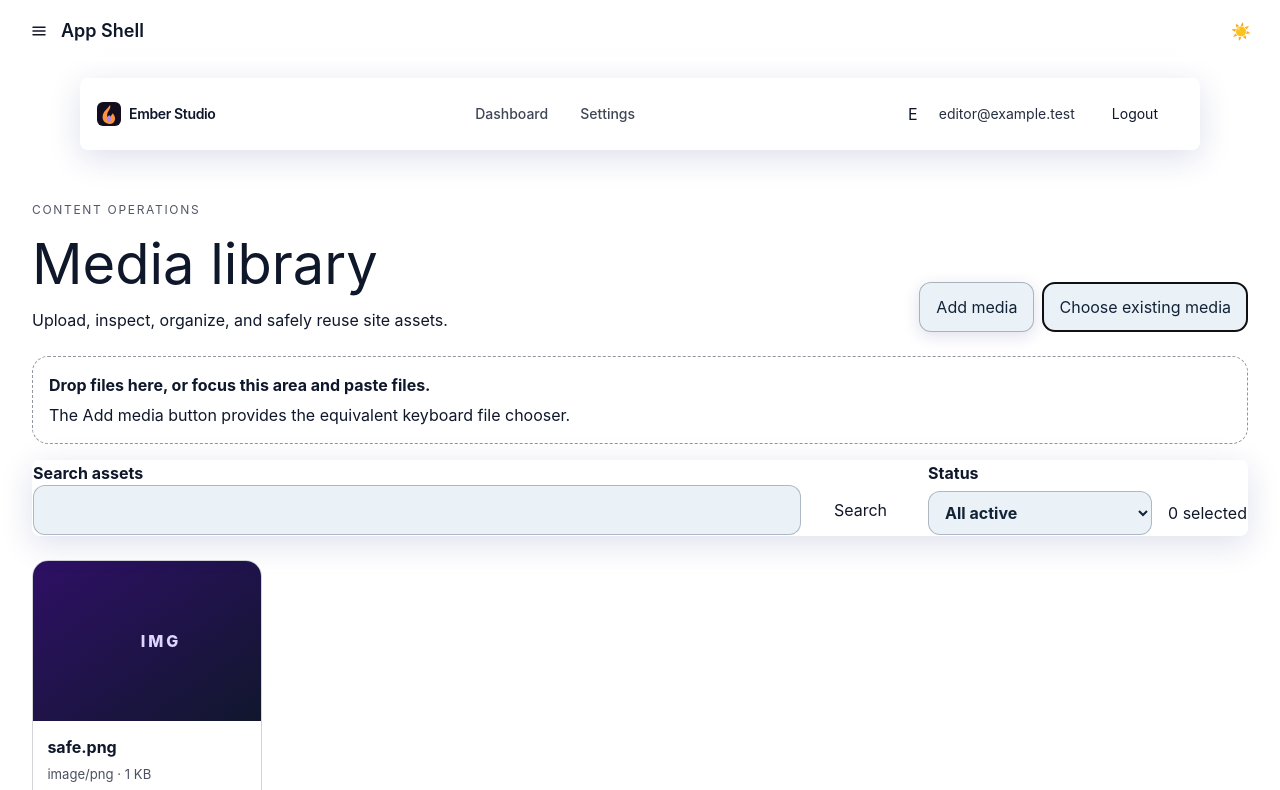
Test: integrates the reusable picker and returns focus after exact selection
Click the button "Choose existing media". click: (1145, 307)
box: [1042, 282, 1248, 332]
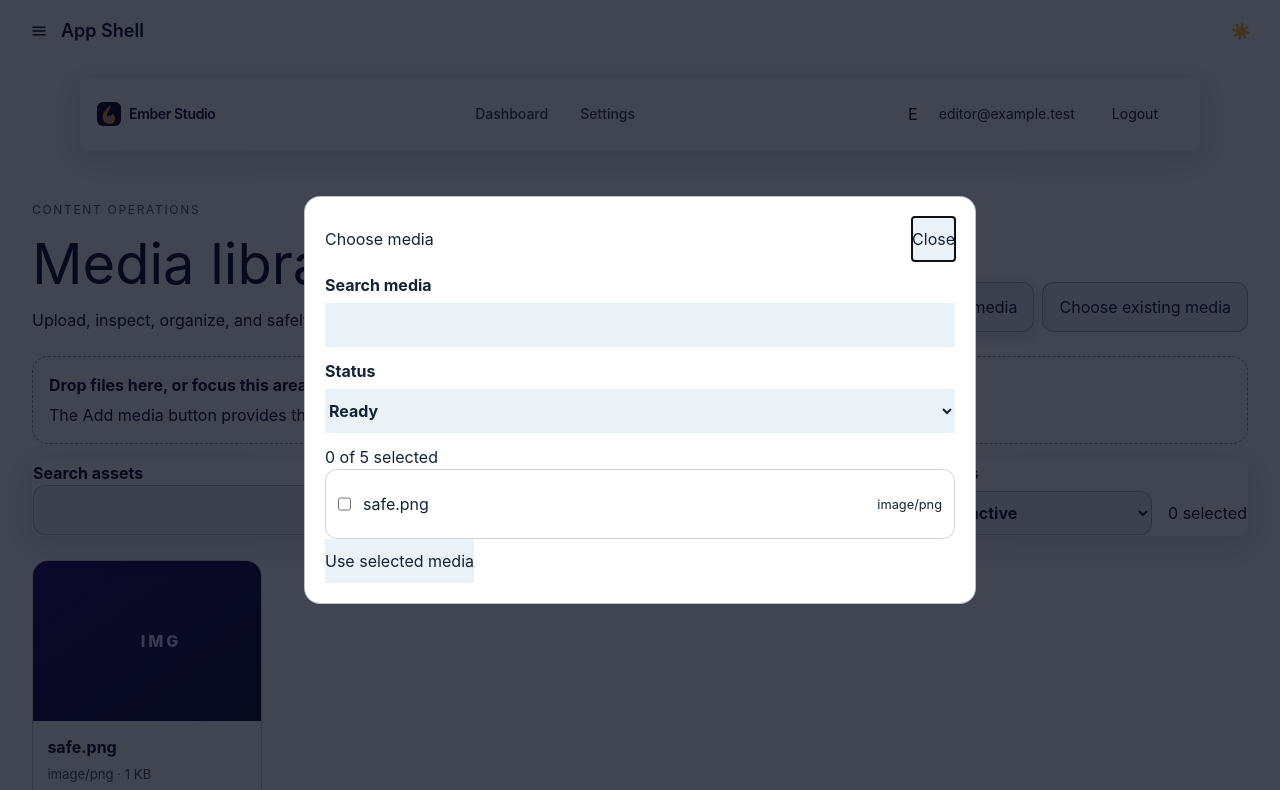
Click the checkbox labelled "safe.png image/png". click: (344, 504)
box: [338, 482, 351, 526]
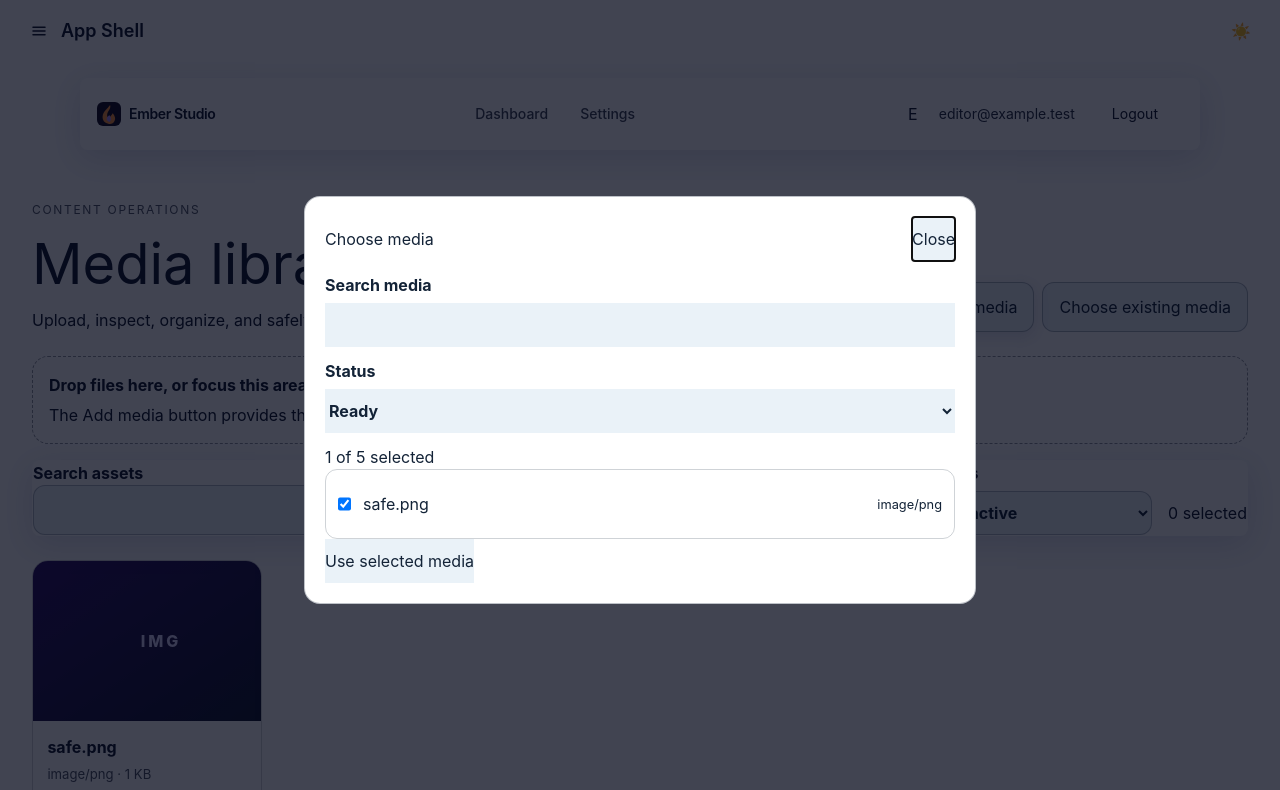
Click the button "Use selected media". click: (400, 561)
box: [325, 539, 474, 583]
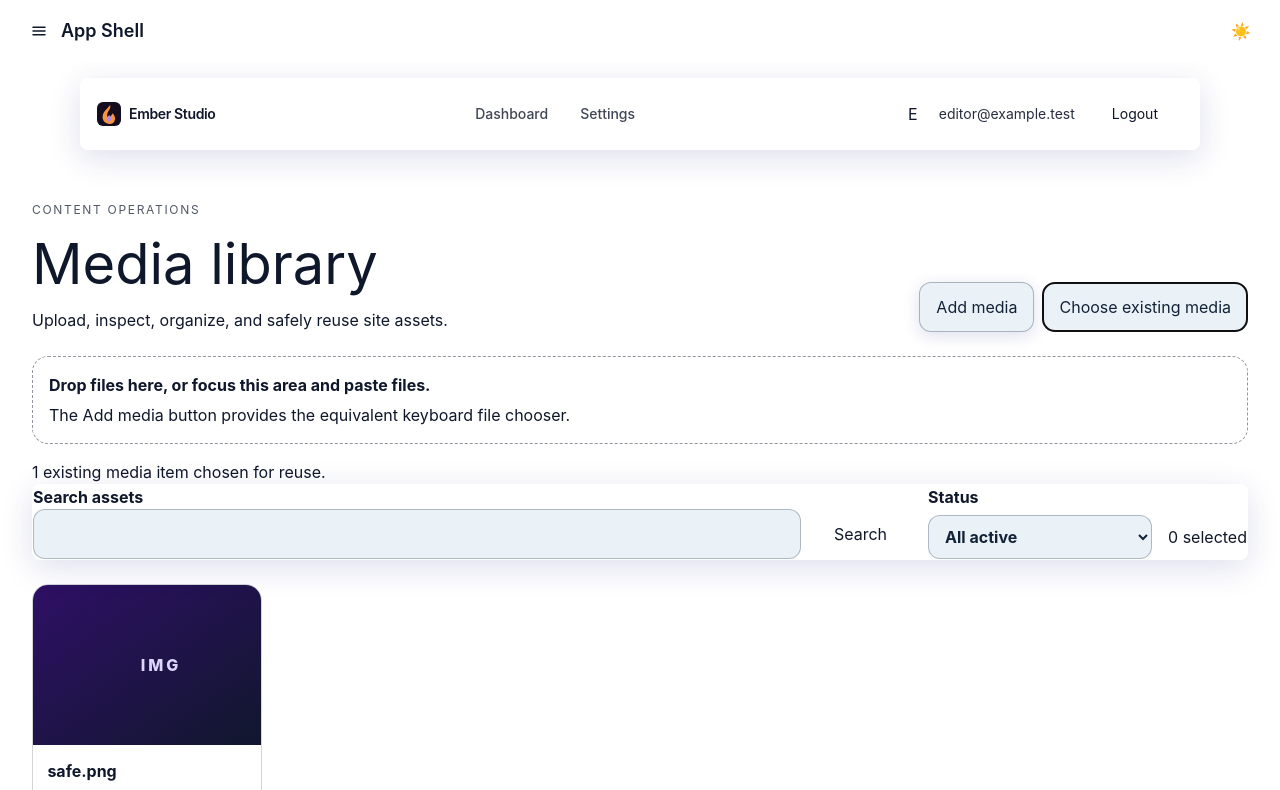
Check: the text "1 existing media item chosen for reuse." is shown, box [32, 462, 326, 482]
